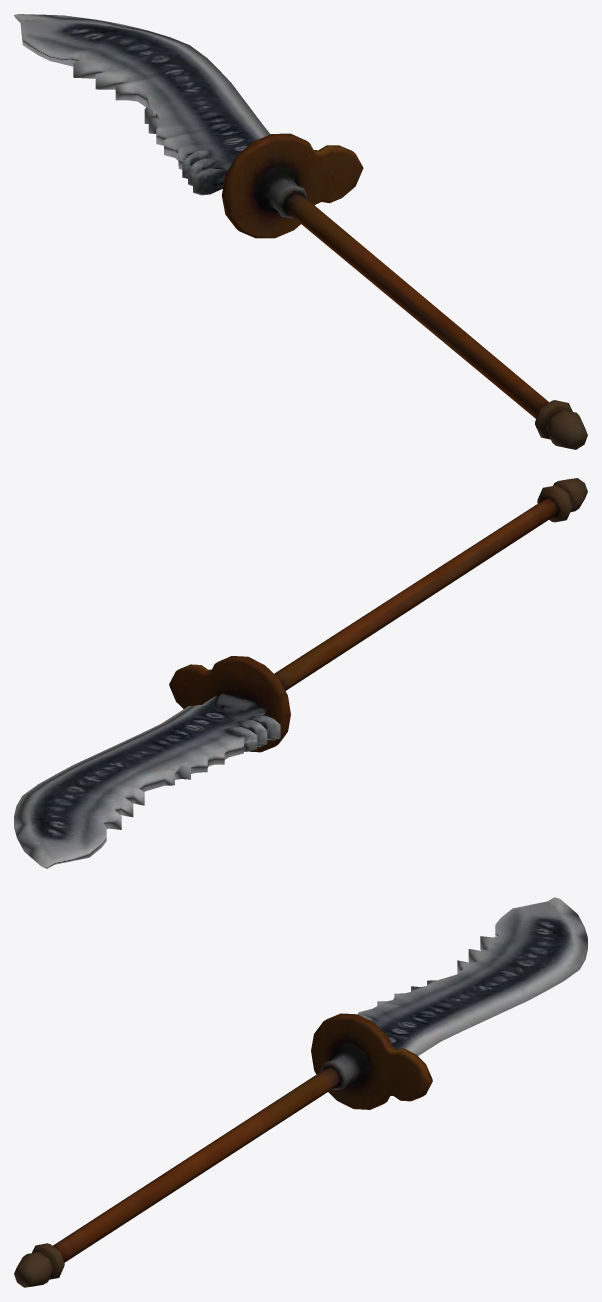
Rendered from glaive.fbx.
3 renders of one model, top to bottom at view 1: azimuth 30°, elevation 25°; view 2: azimuth 150°, elevation 25°; view 3: azimuth 330°, elevation 25°, orthographic. The views are drawn at different scales.
Parts seen in each view (by area): view 1: tripo_node_f057db77-cb62-430c-9a6b-f4ac5978c8a1; view 2: tripo_node_f057db77-cb62-430c-9a6b-f4ac5978c8a1; view 3: tripo_node_f057db77-cb62-430c-9a6b-f4ac5978c8a1.
Part boxes in pixels (box(x1,y1,x2,y2)): tripo_node_f057db77-cb62-430c-9a6b-f4ac5978c8a1: box(14, 14, 587, 449); tripo_node_f057db77-cb62-430c-9a6b-f4ac5978c8a1: box(14, 478, 587, 868); tripo_node_f057db77-cb62-430c-9a6b-f4ac5978c8a1: box(14, 897, 587, 1287).
Size of the model in its own units: 0.3405 by 0.2288 by 2.33.
Materials: 1 (1 with a texture image).
